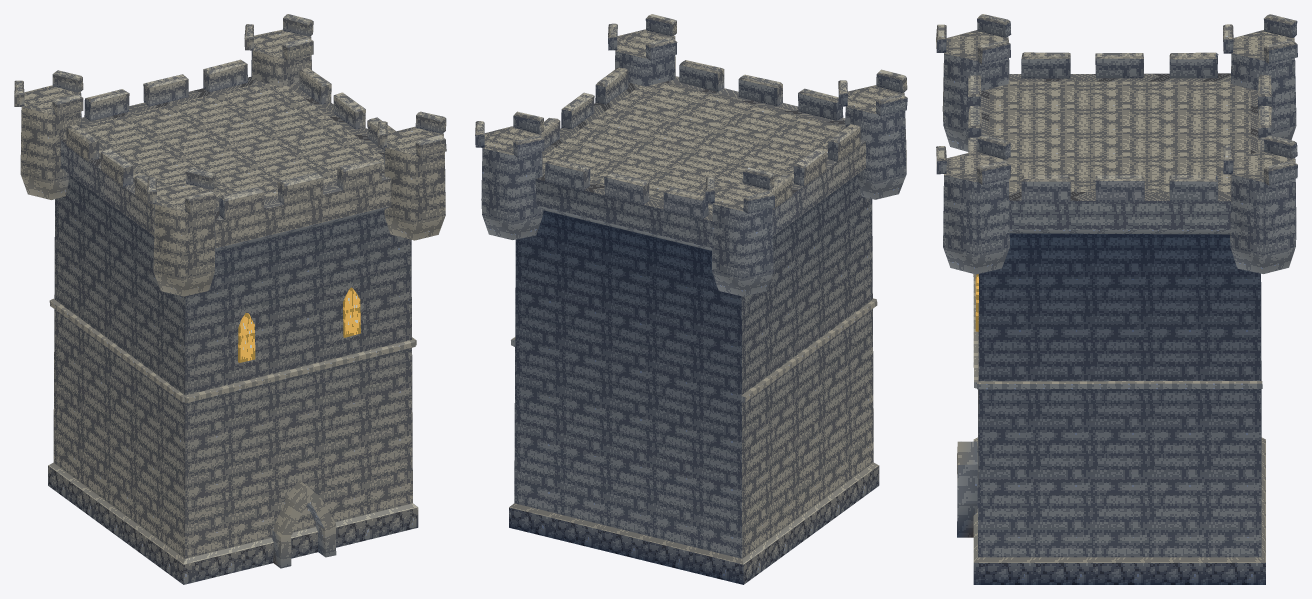
The model's file is cst.keep__crenellated.glb.
The picture shows the model from 3 angles, left to right: view 1: azimuth 30°, elevation 25°; view 2: azimuth 150°, elevation 25°; view 3: azimuth 270°, elevation 25°; orthographic projection. The views are drawn at different scales.
Parts seen in each view (by area): view 1: kit_walls, kit_top, kit_detail; view 2: kit_walls, kit_top, kit_detail; view 3: kit_walls, kit_top, kit_detail.
Part boxes in pixels (<box>): kit_walls: <box>48,174,418,584</box>; kit_top: <box>14,14,446,296</box>; kit_detail: <box>49,287,416,568</box>; kit_walls: <box>509,174,879,584</box>; kit_top: <box>475,14,907,296</box>; kit_detail: <box>511,298,877,402</box>; kit_walls: <box>973,233,1265,584</box>; kit_top: <box>936,14,1297,274</box>; kit_detail: <box>957,274,1262,537</box>.
Size of the model in its own units: 13.13 by 16.8 by 12.75.
5 materials, 5 textured.
